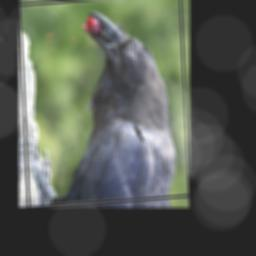Crow: (21, 5, 179, 206)
